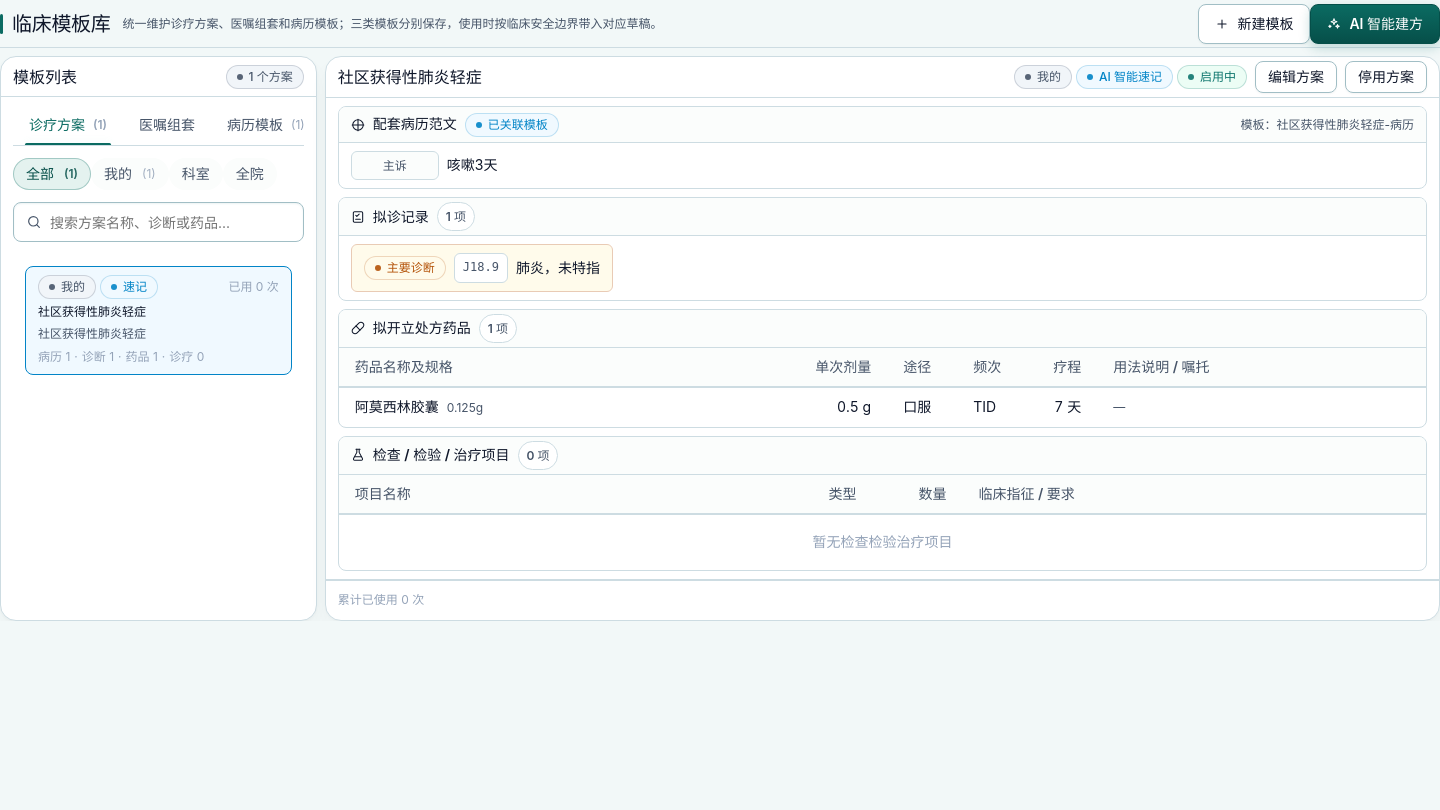
opens edit modal when clicking 编辑方案
Check: the text "编辑方案" is shown, box [1268, 70, 1324, 84]
Click the button "编辑方案": (1296, 77) [1255, 61, 1337, 93]
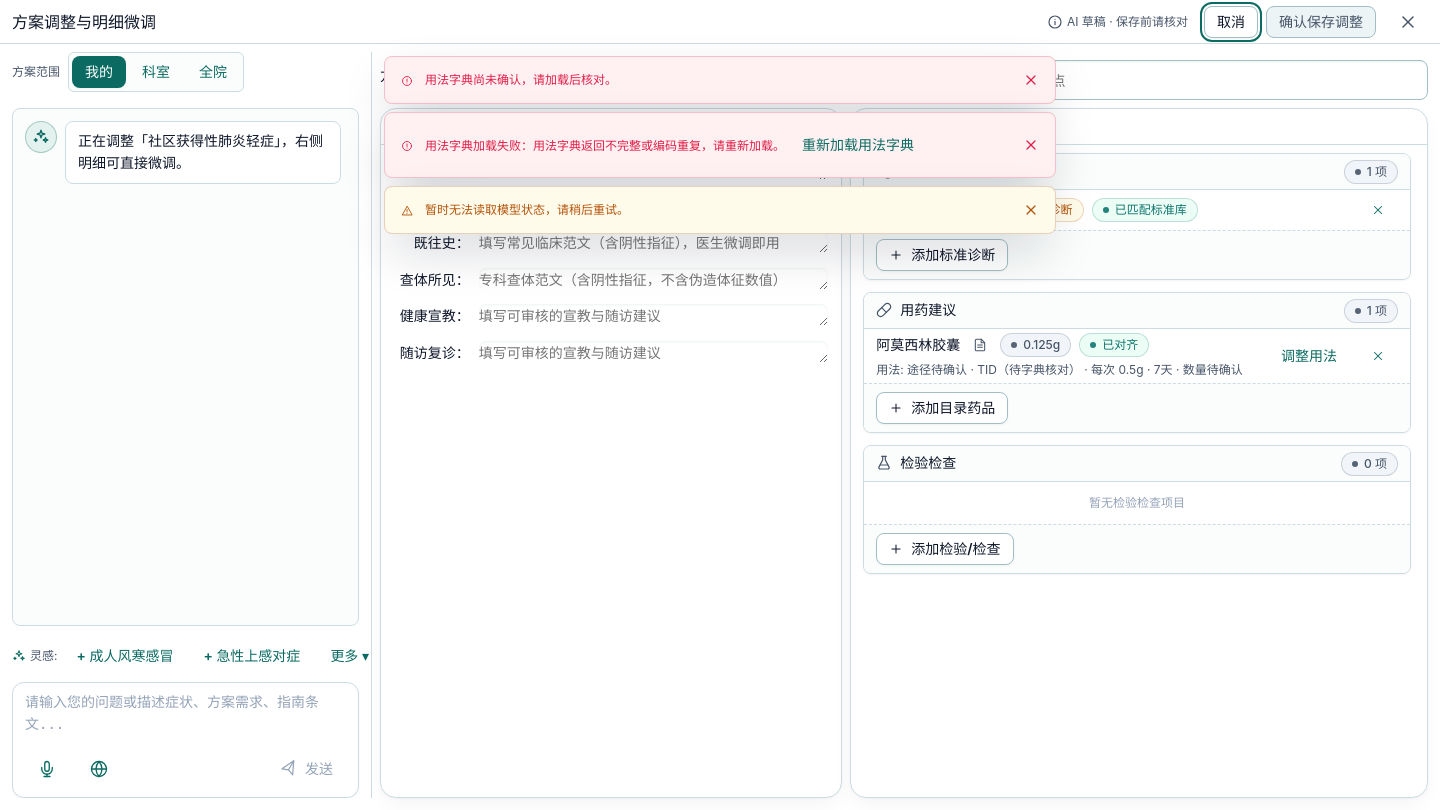
Check: the heading "方案调整与明细微调" is shown, box [12, 10, 156, 34]
Check: the text box showing "咳嗽3天" is shown, box [478, 157, 829, 181]
